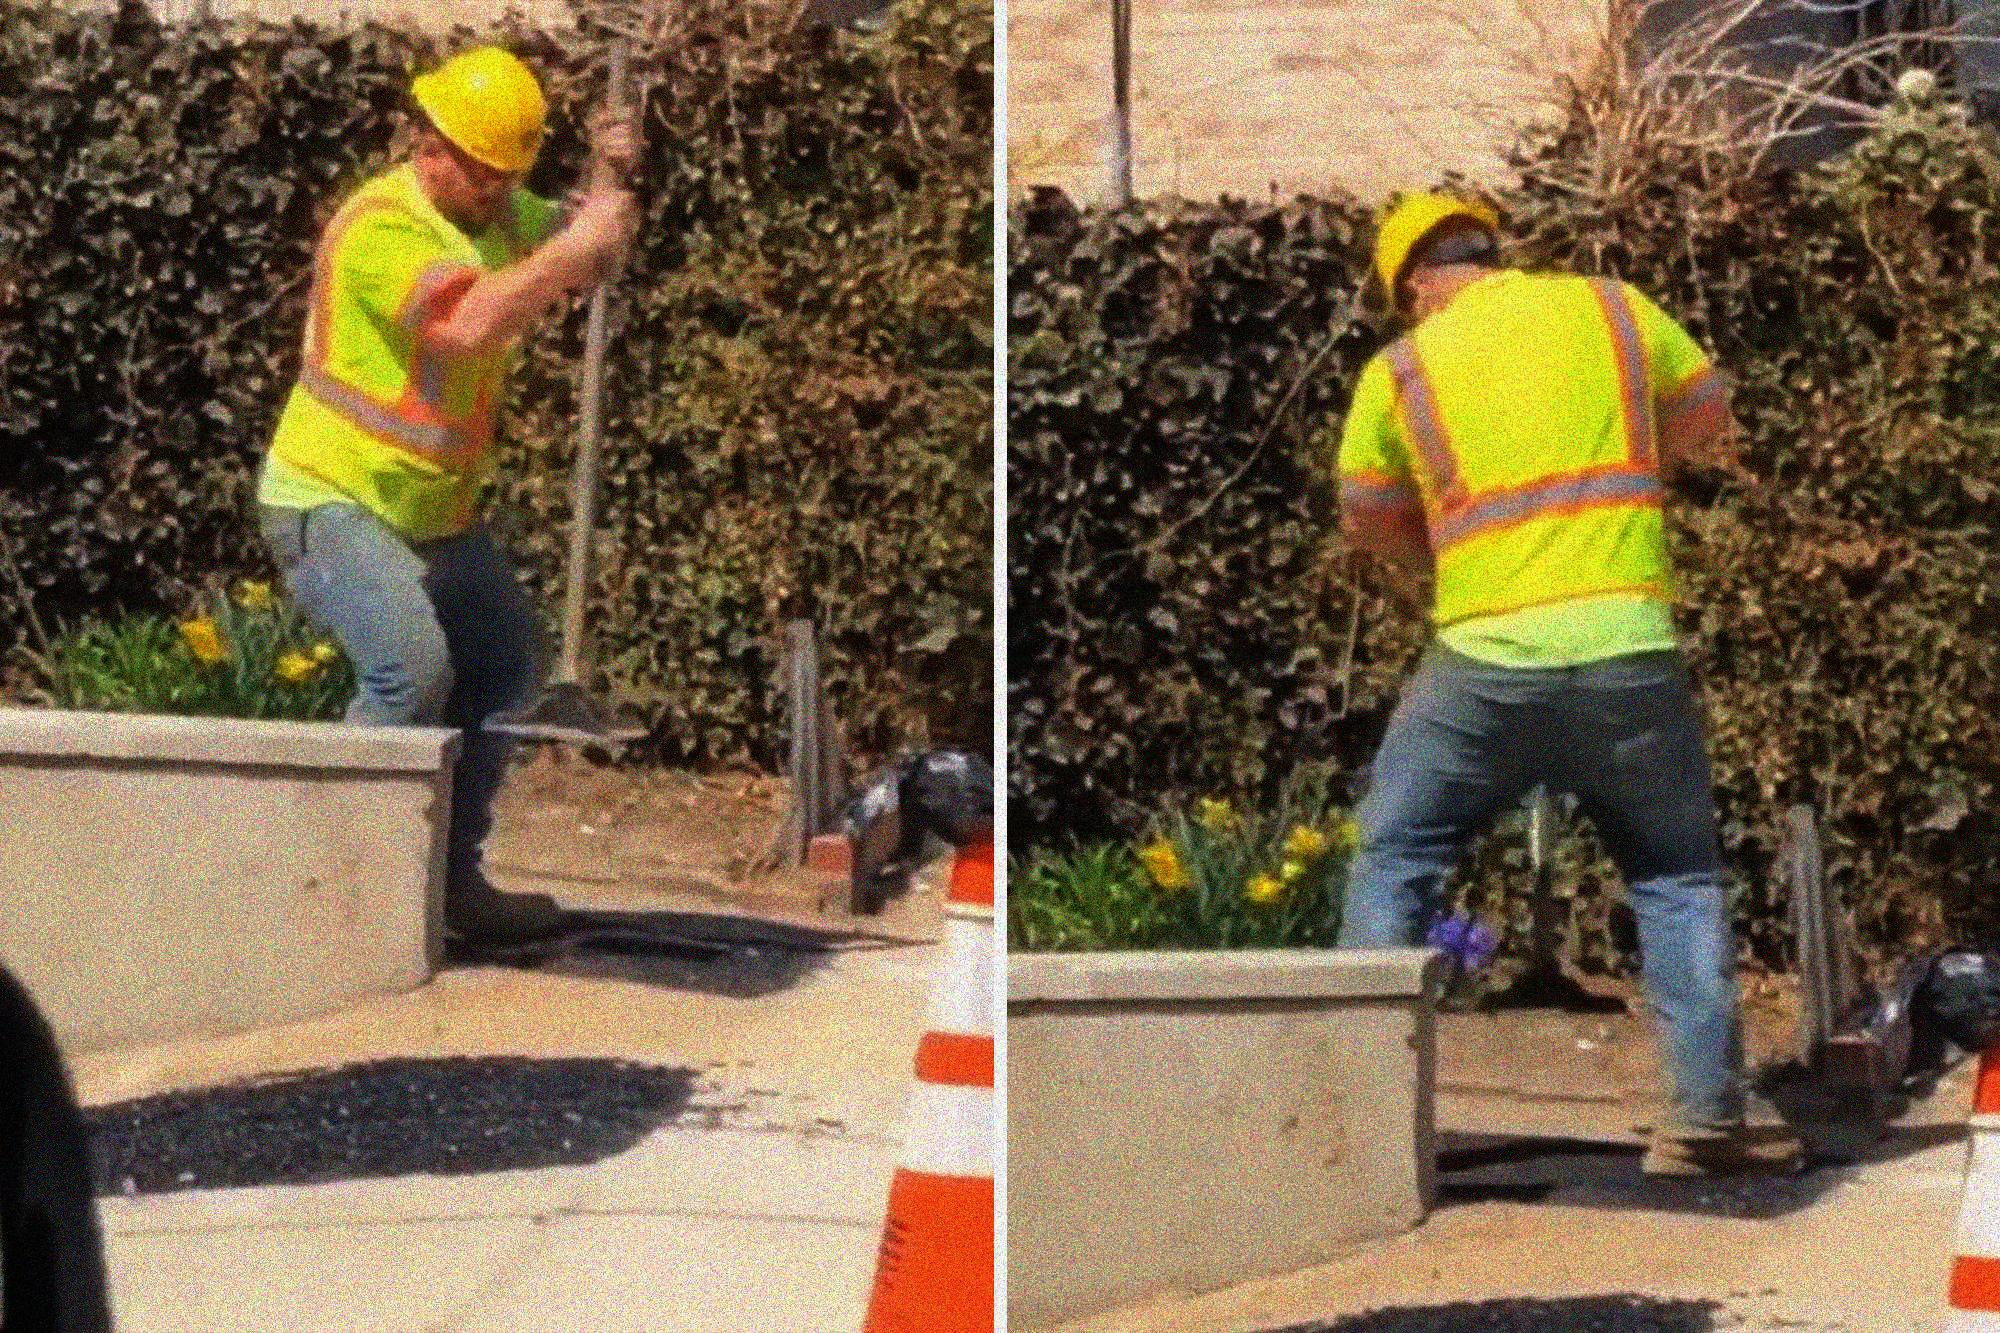helmet: (403, 46, 550, 240), (1372, 187, 1508, 335)
